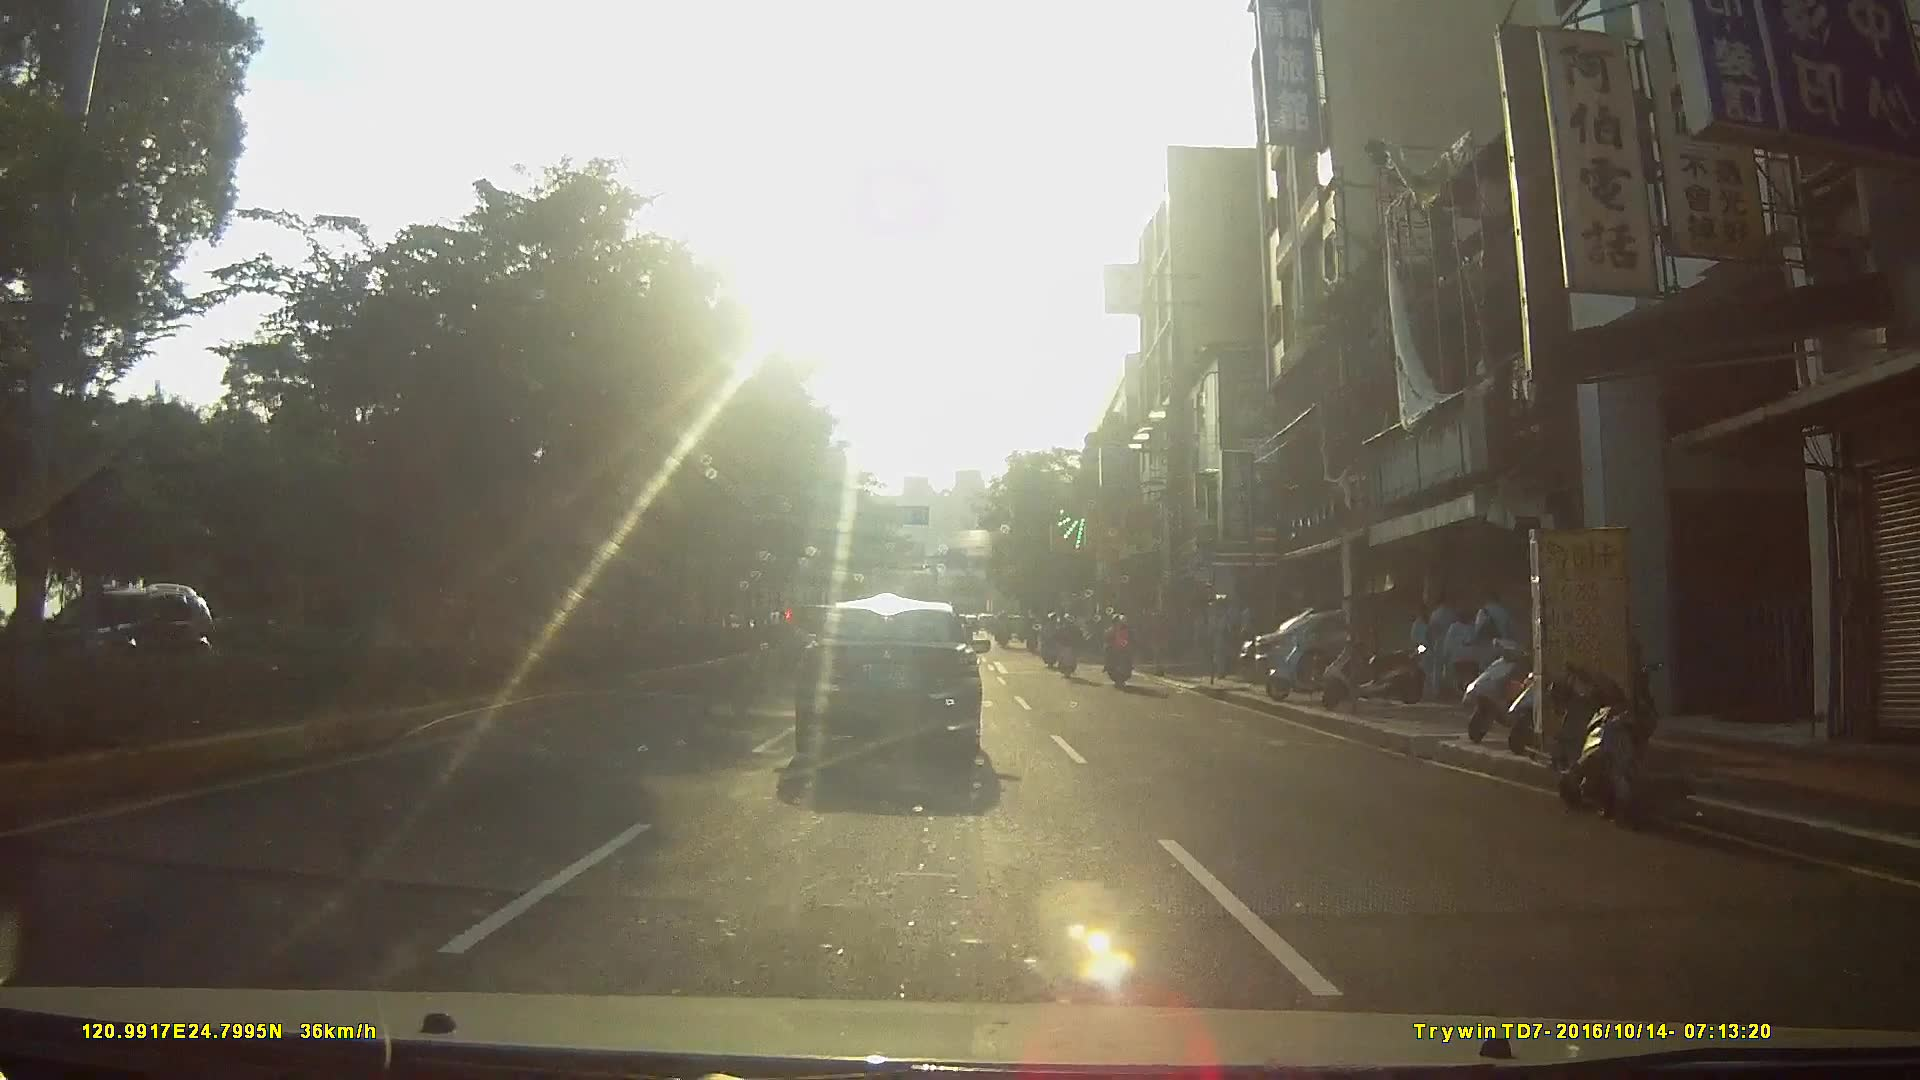pedestrian: (1468, 576, 1513, 723), (1434, 598, 1481, 711), (1426, 581, 1462, 710)
rider: (1104, 613, 1138, 691), (1055, 612, 1082, 680), (1042, 611, 1062, 670)
vehicle: (792, 598, 1007, 787), (39, 579, 219, 706)
